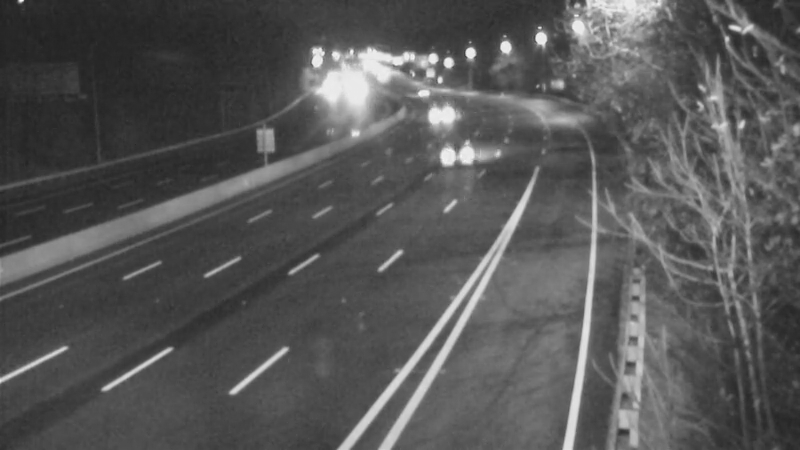vehicle: (415, 115, 495, 195), (400, 65, 450, 115), (407, 95, 457, 145)
